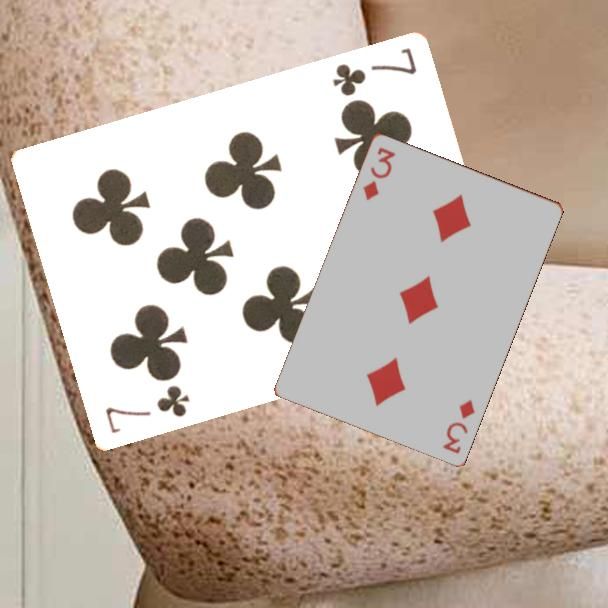c07: (328, 44, 419, 100), (101, 382, 192, 437)
d03: (359, 143, 398, 203), (439, 396, 478, 456)
